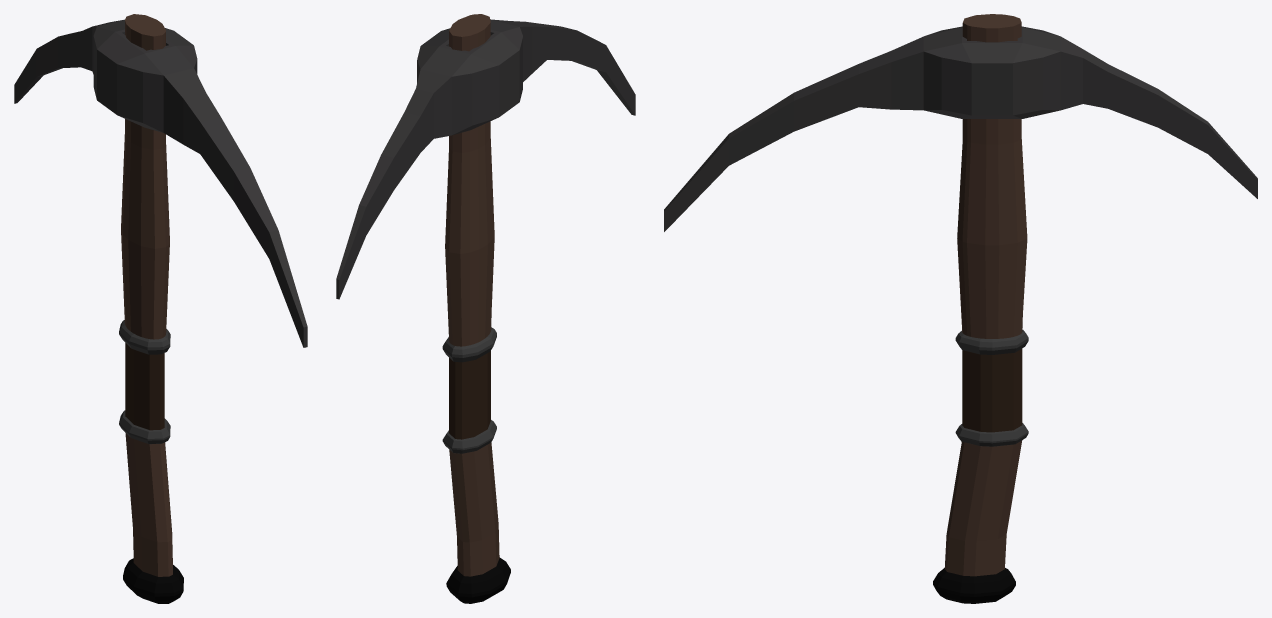
Rendered from Stone_Pickaxe_Low_Poly.fbx.
The picture shows the model from 3 angles, left to right: view 1: azimuth 30°, elevation 25°; view 2: azimuth 150°, elevation 25°; view 3: azimuth 270°, elevation 25°; orthographic projection. The views are drawn at different scales.
Parts seen in each view (by area): view 1: Cube; view 2: Cube; view 3: Cube.
Part boxes in pixels (x1,y1,x2,y2): Cube: (14,14,307,603); Cube: (336,14,635,603); Cube: (664,14,1257,603).
Size of the model in its own units: 246 by 1712 by 1601.
